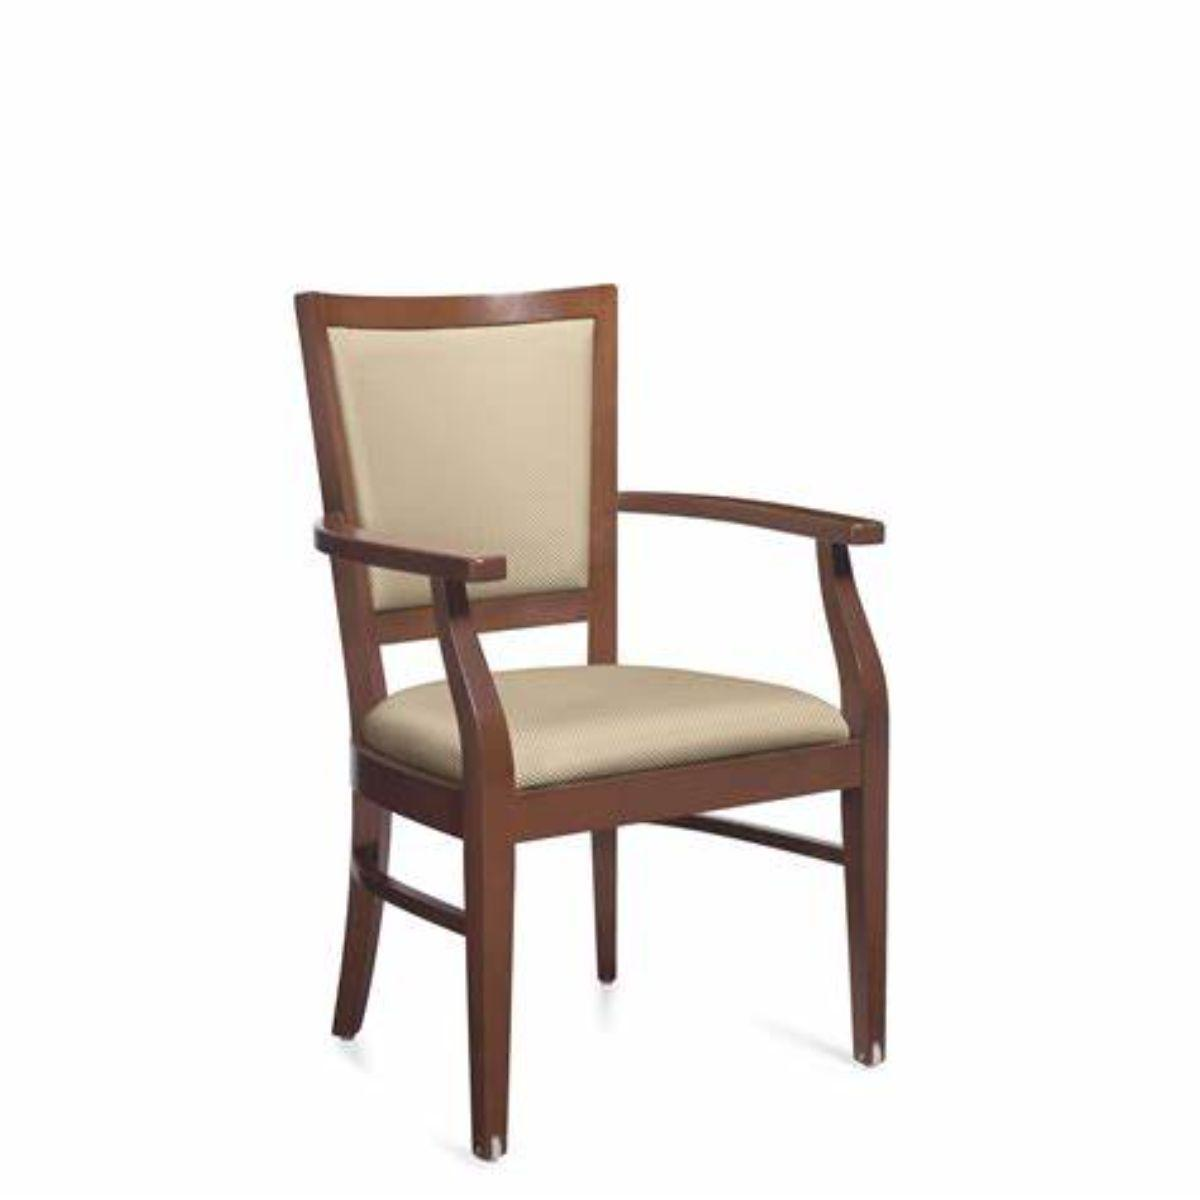Chair: (286, 288, 899, 1156)
